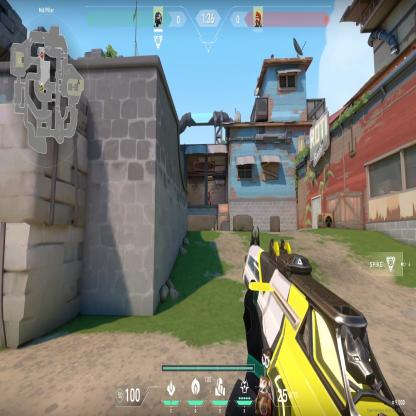enemy: (208, 188, 212, 204)
